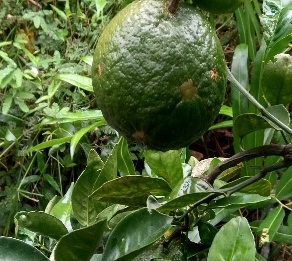Cam: (91, 1, 228, 152)
